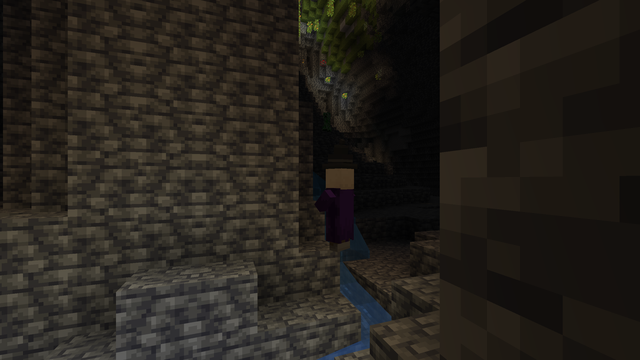creepers: (322, 111, 330, 131)
sorcieres: (323, 164, 357, 252)
